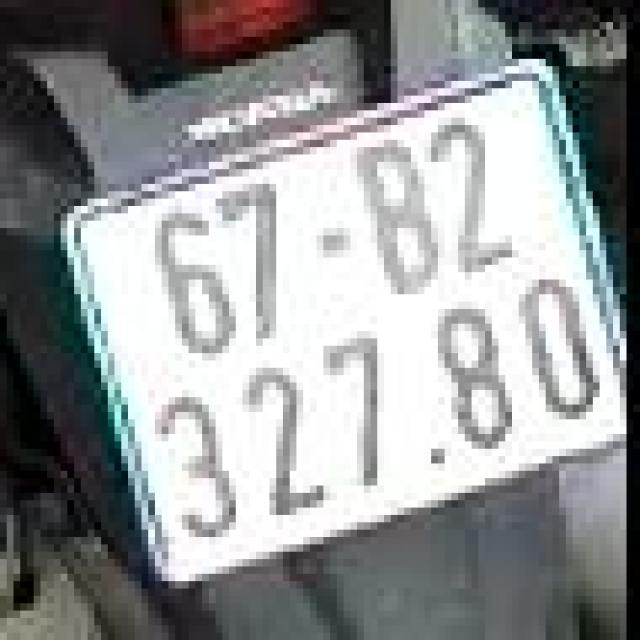0: (508, 266, 614, 426)
2: (228, 351, 343, 526), (424, 107, 532, 281)
3: (141, 377, 261, 549)
6: (138, 201, 252, 374)
7: (211, 174, 319, 352), (313, 323, 422, 497)
8: (408, 294, 537, 454)
B: (341, 129, 461, 310)
